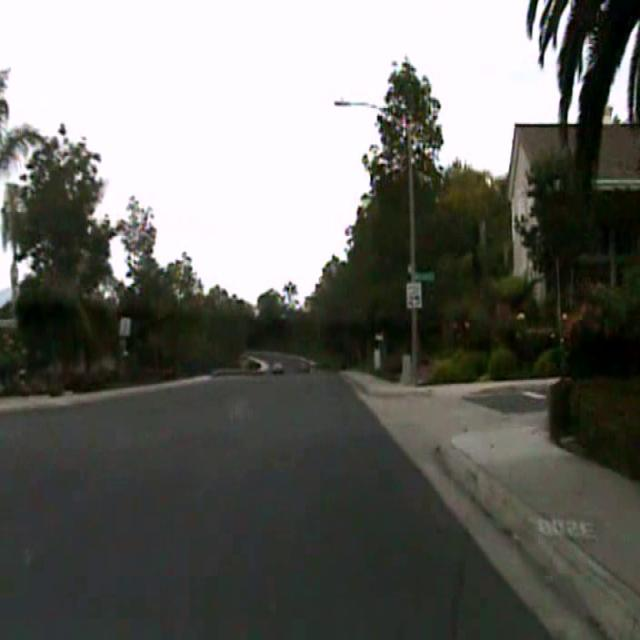speedLimit25: (405, 280, 422, 309)
